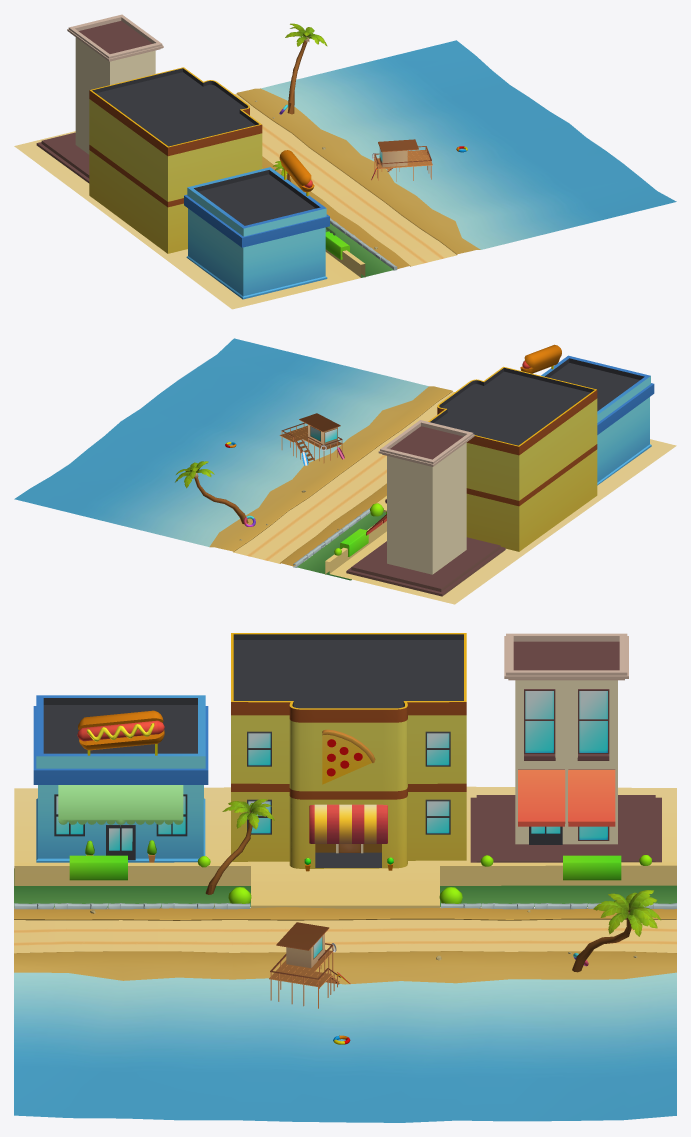
The picture shows the model from 3 angles, top to bottom: view 1: azimuth 30°, elevation 25°; view 2: azimuth 150°, elevation 25°; view 3: azimuth 270°, elevation 25°; orthographic projection. The views are drawn at different scales.
Visible parts, largest first — view 1: Patch_5, Patch2_road; view 2: Patch_5, Patch2_road; view 3: Patch_5, Patch2_road.
Boxes of the visible parts, x1,y1,x2,y2 form: Patch_5: (14, 14, 676, 309); Patch2_road: (235, 94, 456, 266); Patch_5: (14, 338, 676, 604); Patch2_road: (233, 391, 454, 563); Patch_5: (14, 633, 676, 1122); Patch2_road: (14, 919, 676, 953).
Size of the model in its own units: 2758 by 754 by 2355.
